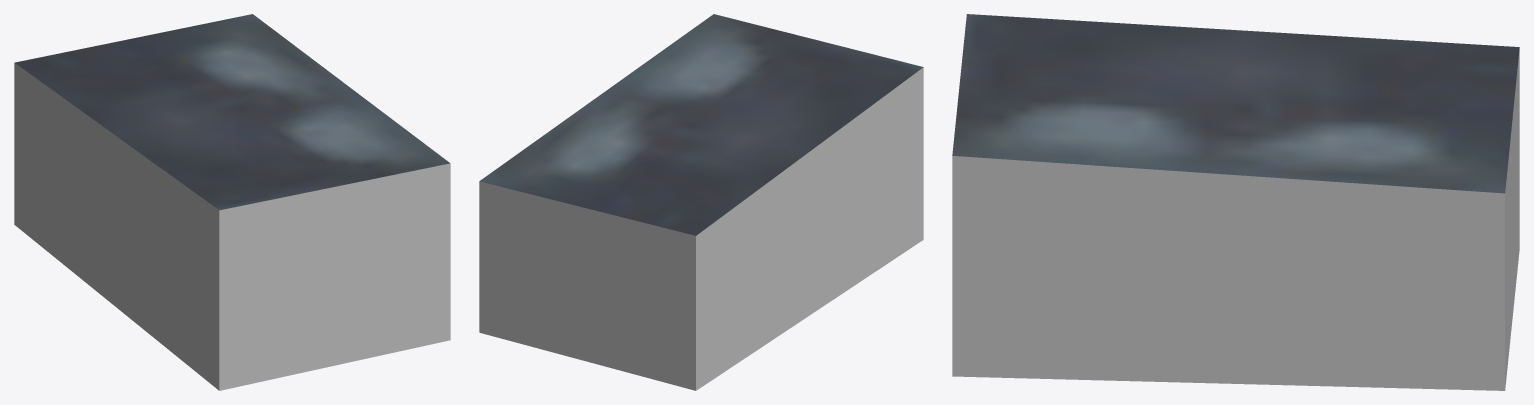
Rendered from DEBW_0010007TvjH.gltf.
The picture shows the model from 3 angles, left to right: view 1: azimuth 30°, elevation 25°; view 2: azimuth 150°, elevation 25°; view 3: azimuth 270°, elevation 25°; orthographic projection. The views are drawn at different scales.
Visible parts, largest first — view 1: Z_UP; view 2: Z_UP; view 3: Z_UP.
Boxes of the visible parts, <box> form: Z_UP: <box>14,14,450,390</box>; Z_UP: <box>479,14,923,390</box>; Z_UP: <box>952,14,1519,390</box>.
Bounding box in the file's own units: 3.46 × 2.4 × 5.47.
Materials: 2 (1 with a texture image).
